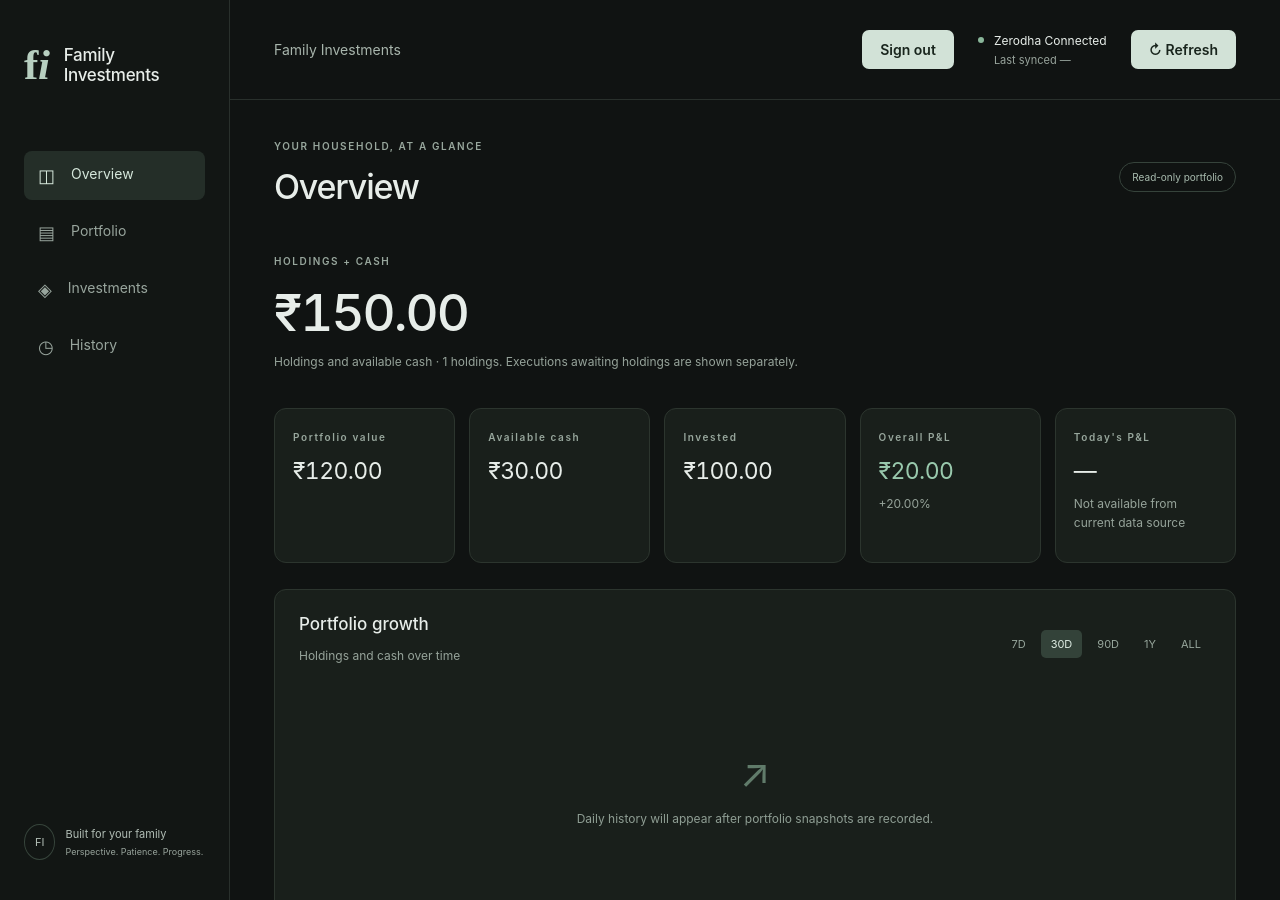
Test case: refresh button refetches after completing mutations
Expected: the text "₹150.00" is shown, [274,281,468,343]
Step 1. Click the button "↻ Refresh" → (1183, 50), box [1131,30,1236,69]
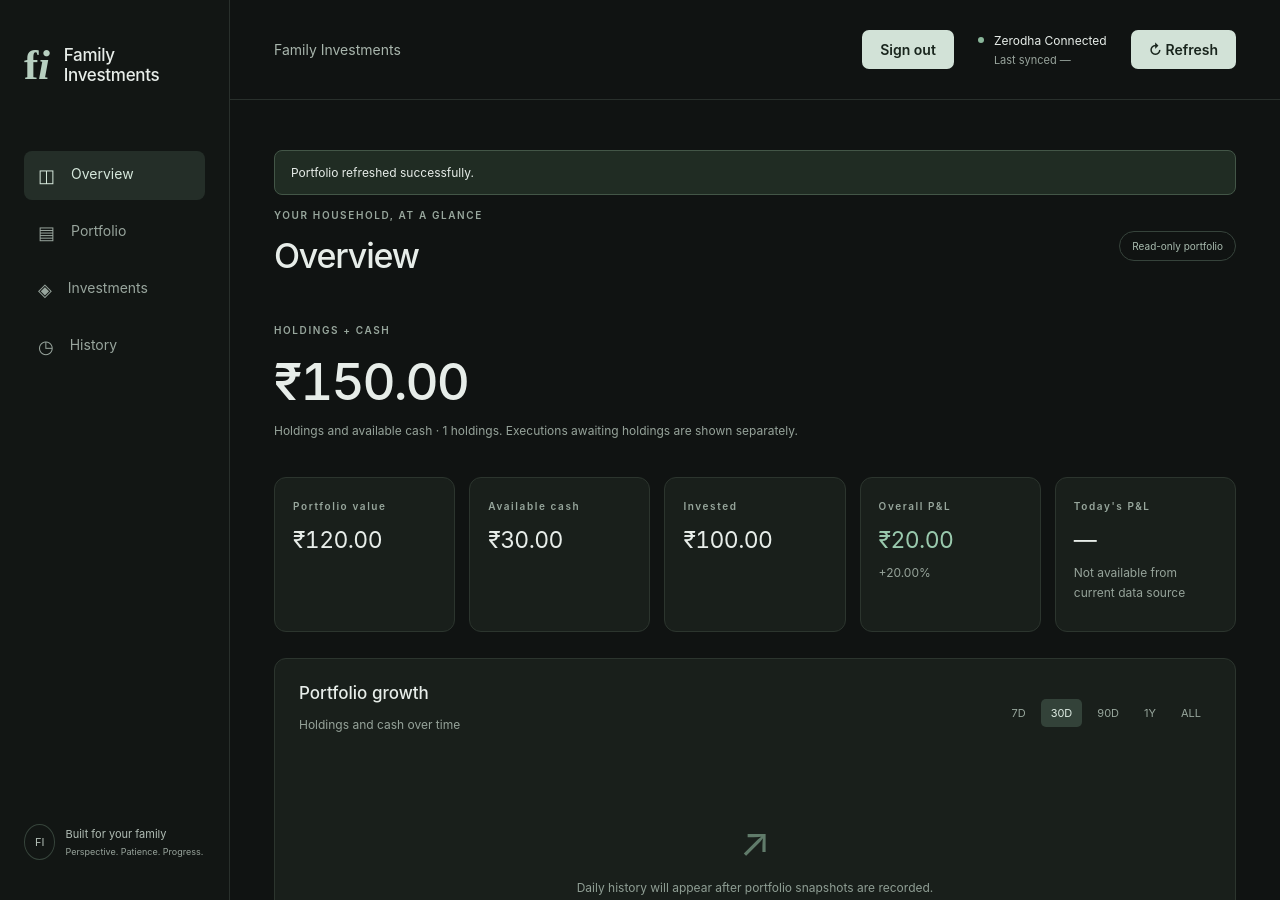
Expected: the text "Portfolio refreshed successfully." is shown, [274,150,1236,195]
